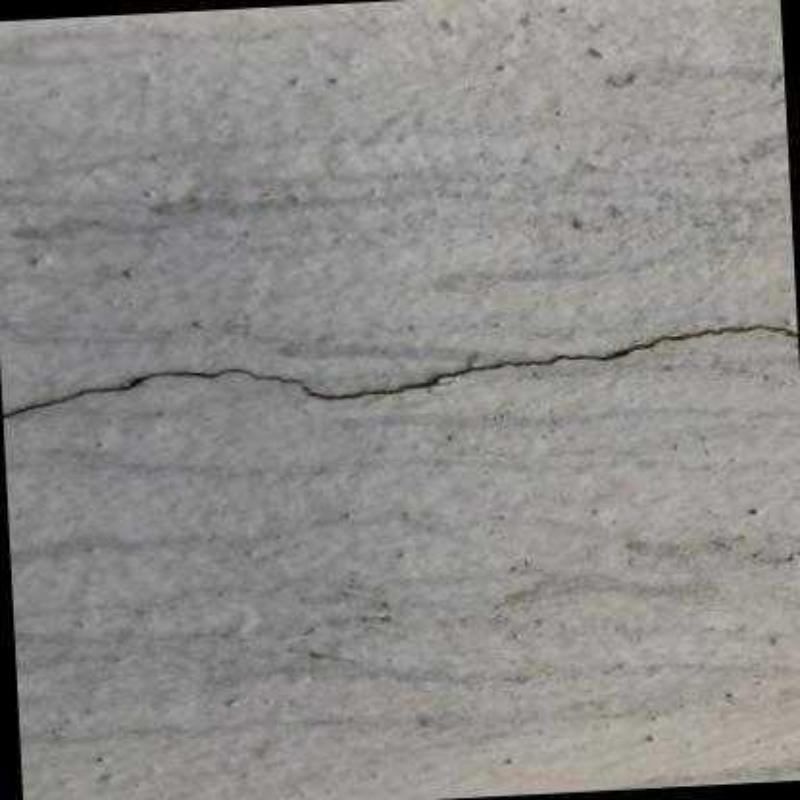crack: (2, 325, 799, 419)
